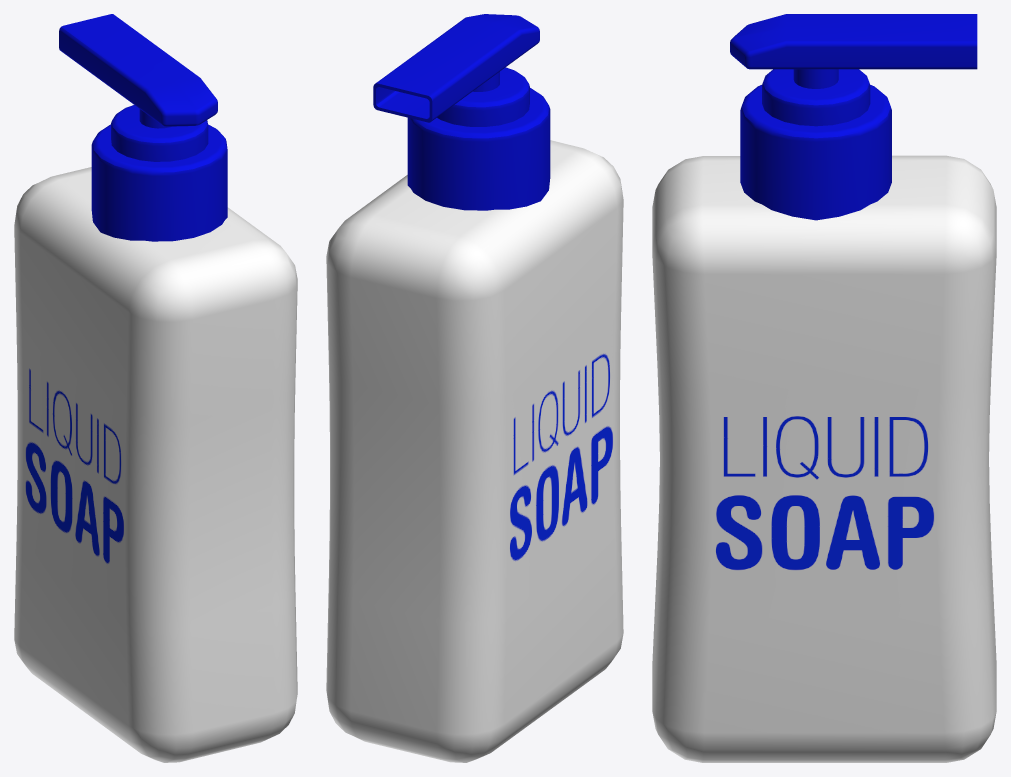
File: LiquidHandsoap.glb
3 renders of one model, left to right at view 1: azimuth 30°, elevation 25°; view 2: azimuth 150°, elevation 25°; view 3: azimuth 270°, elevation 25°, orthographic. The views are drawn at different scales.
Visible parts, largest first — view 1: LiquidSoap; view 2: LiquidSoap; view 3: LiquidSoap.
Part boxes in pixels (x1,y1,x2,y2): LiquidSoap: (14, 14, 297, 762); LiquidSoap: (326, 14, 623, 762); LiquidSoap: (652, 14, 996, 762).
Bounding box in the file's own units: 0.2402 × 0.8963 × 0.395.
2 materials, 1 textured.
